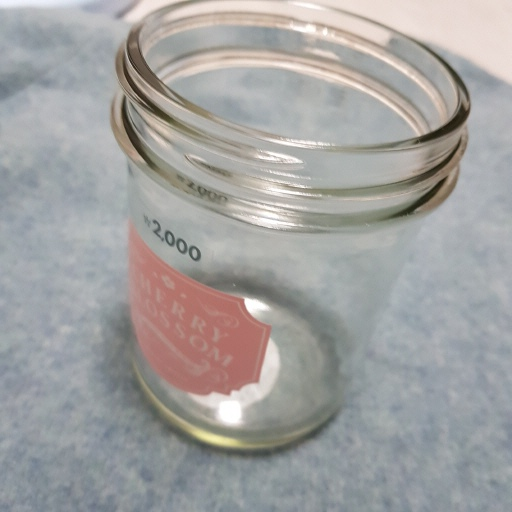Glass_5: (105, 2, 469, 457)
